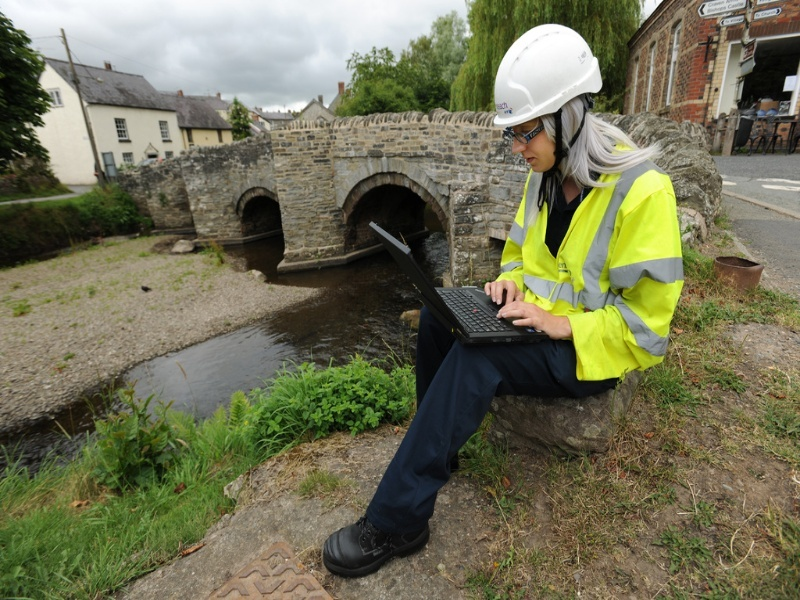Baret: (491, 21, 604, 130)
